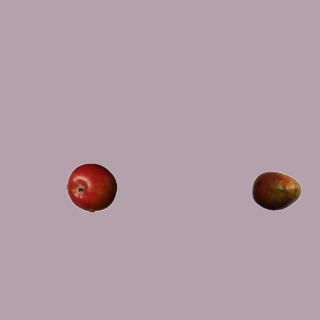Apple Braeburn: (66, 162, 116, 212)
Mango Red: (251, 165, 301, 215)
